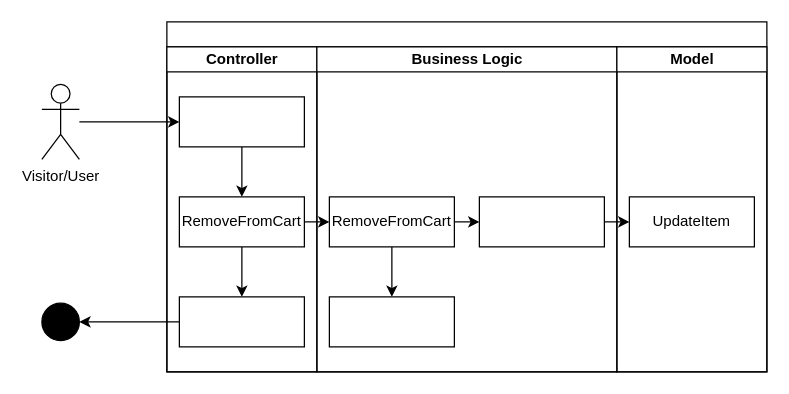
The diagram is 789 pixels wide and 394 high, and some of its shapes have lost their labels. The shapes that lost their labels are listed below. From the top down, each one's centre as x and y in pixels, then its label:
At [241,121]: "Initialize".
At [541,221]: "SetItemStatus".
At [241,321]: "ShowItem".
At [391,321]: "UpdateCart".
